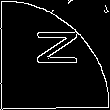N_W: (30, 35, 80, 75)
